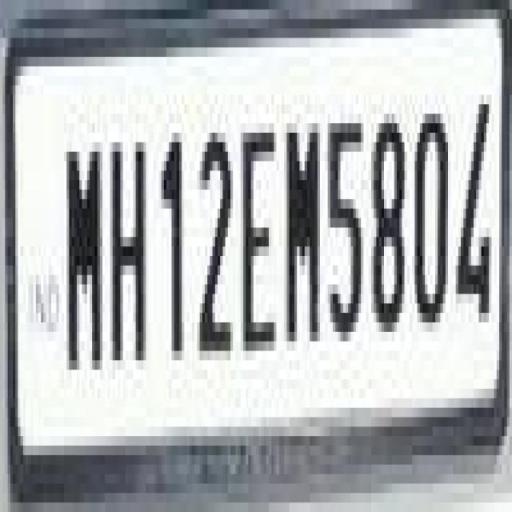number plate: (20, 10, 512, 464)
